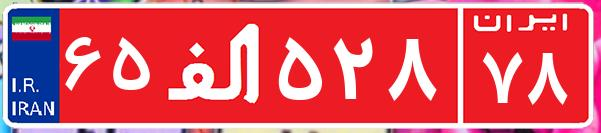2: (330, 28, 385, 110)
5: (273, 28, 330, 110), (110, 28, 158, 105)
6: (57, 26, 110, 107)
7: (475, 38, 525, 113)
8: (385, 28, 445, 110), (525, 38, 570, 115)
الف: (158, 15, 273, 115)
